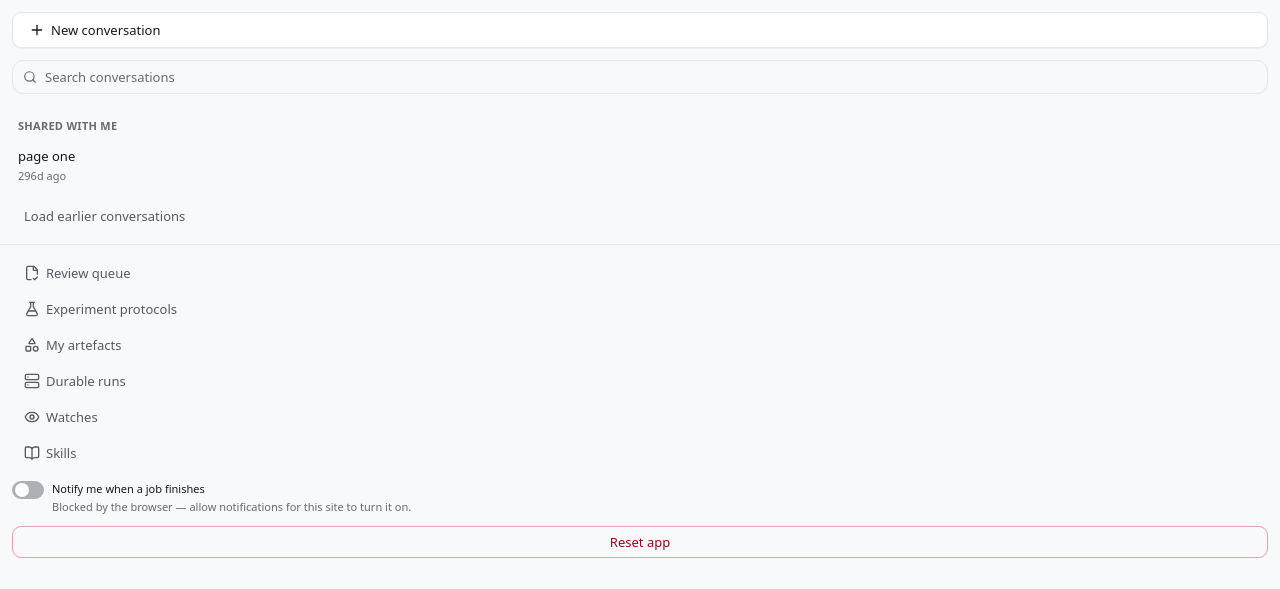
Test case: a listing longer than one page › offers the next page, and does not offer one when the service did not
The width and height of the screenshot is (1280, 589).
Click the button "Load earlier conversations".
click(105, 216)  # box [12,200,1268,232]
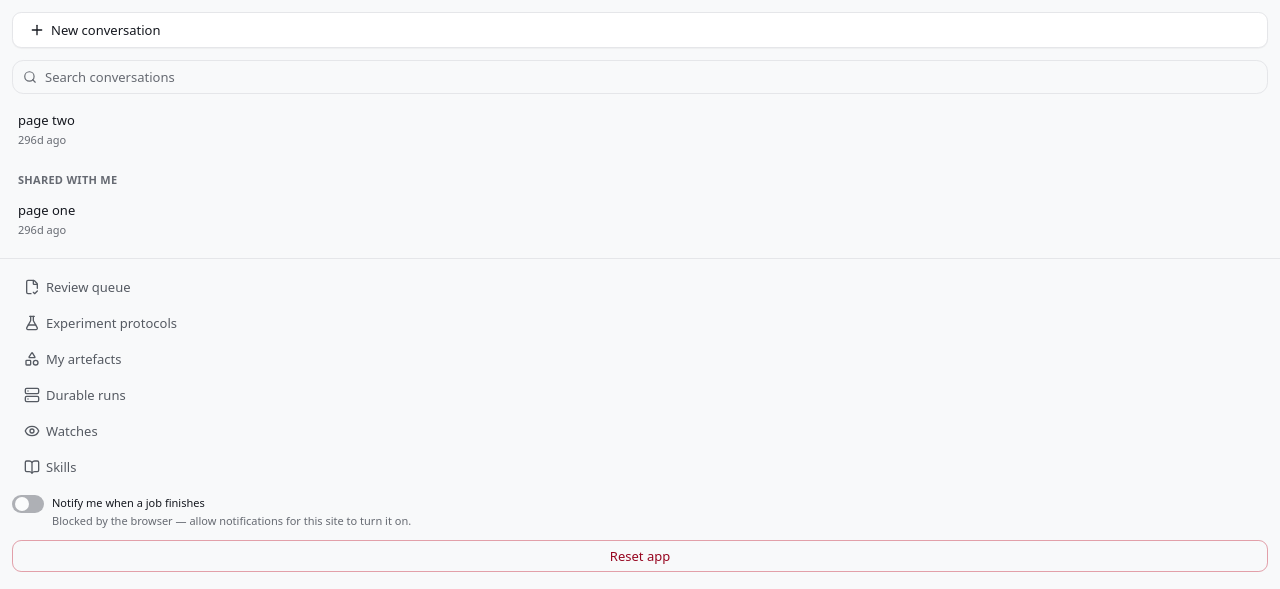
Now the text "page two" is shown, box [18,110,75,130]
Now the button "Load earlier conversations" is gone
